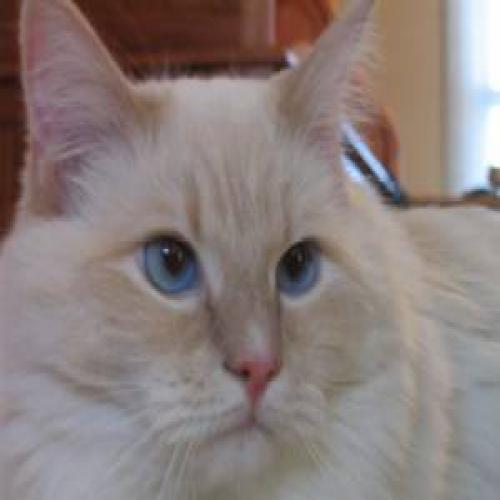ragdoll: (8, 1, 397, 465)
